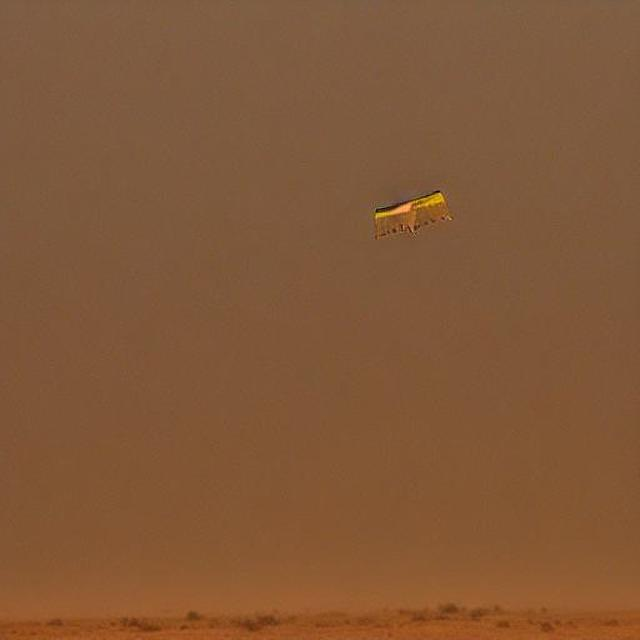floating object: (372, 187, 454, 238)
